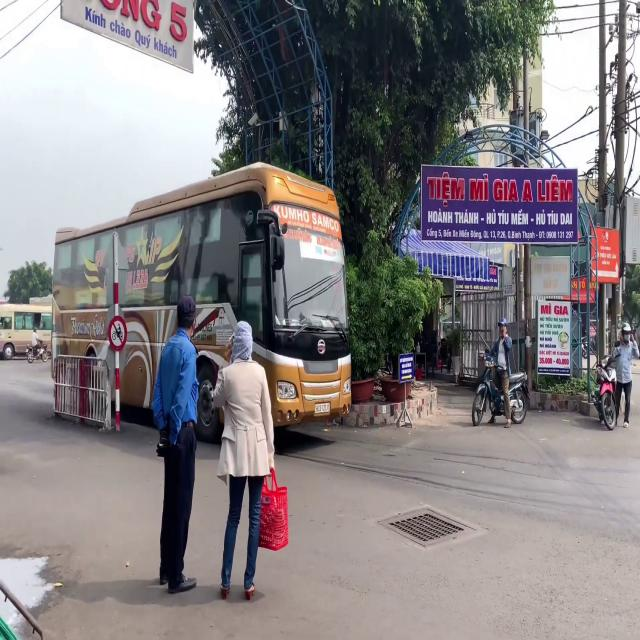bien_trang: (314, 403, 330, 413)
